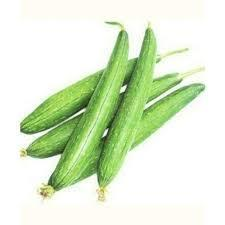sponge gourd: (19, 20, 205, 201), (37, 21, 129, 198), (95, 22, 157, 200), (19, 66, 105, 134), (128, 82, 205, 151), (19, 107, 87, 159)
